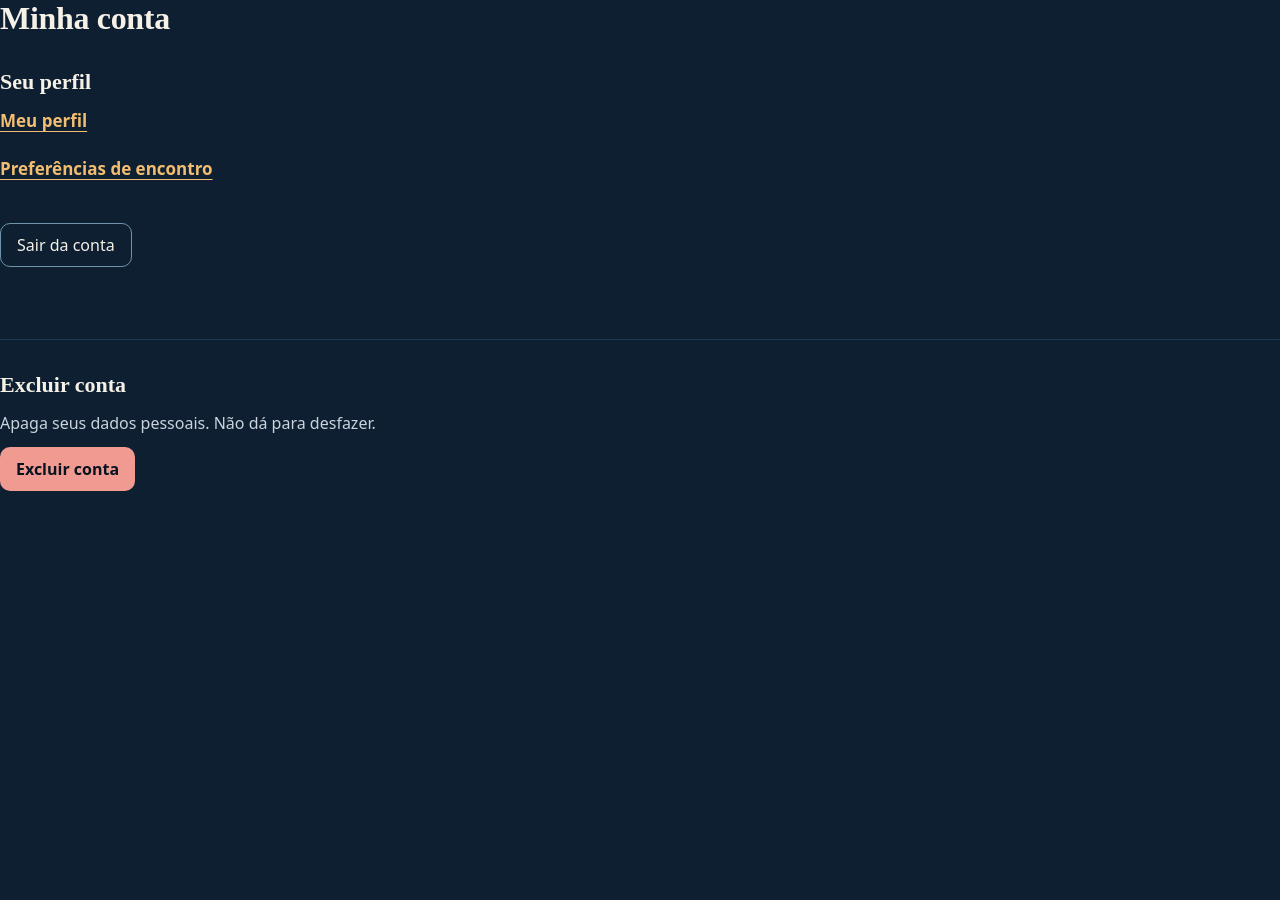
it: MinhaConta › excluirAbreODialogoSemChamarAApi
The image size is (1280, 900).
What coordinates should you click on to do the following:
click the button "Excluir conta"
I would click on:
 (68, 469)
Its box is [0,447,135,491].
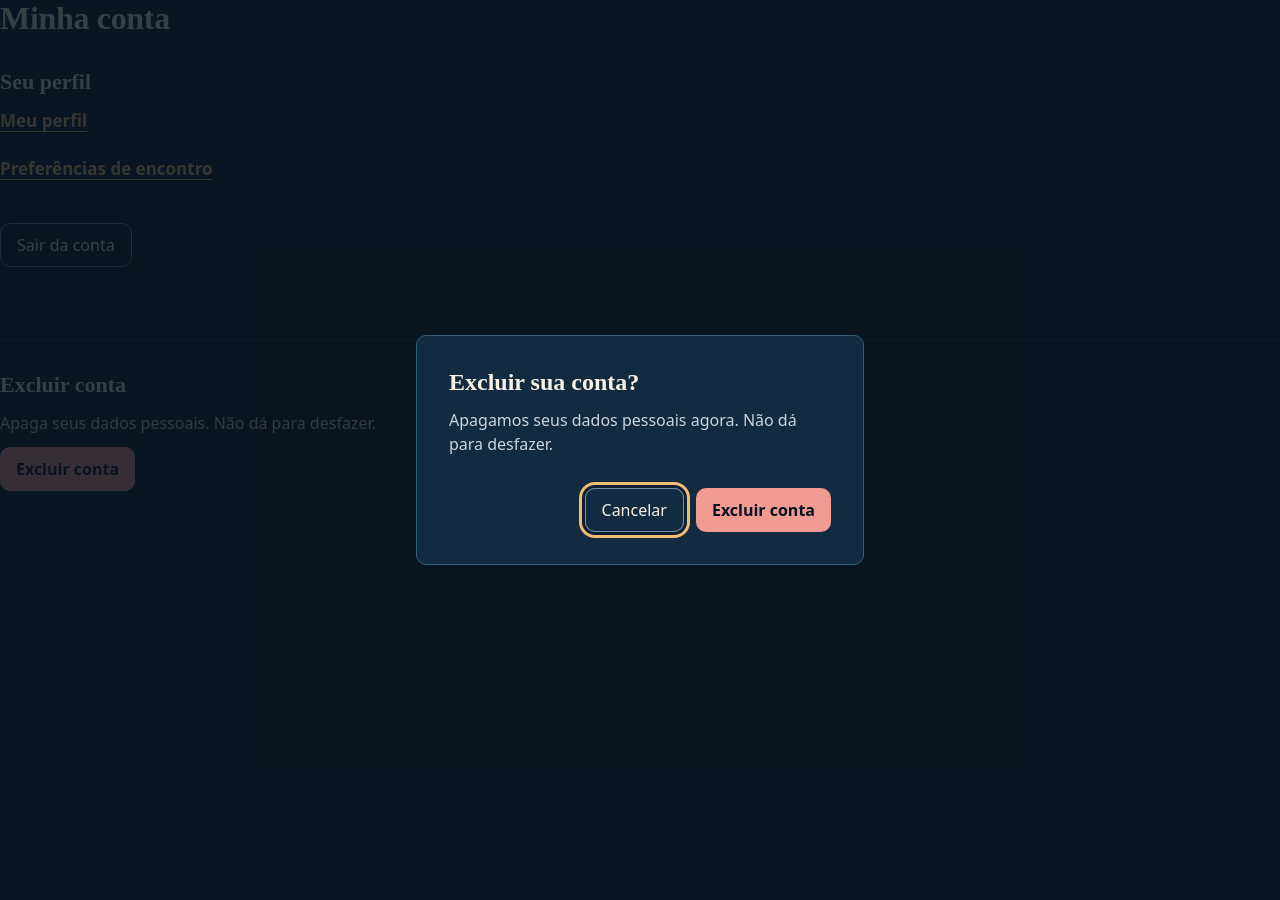
Expected: the button "Excluir conta" is shown, [696,488,831,532]
Expected: the button "Cancelar" is shown, [584,488,684,532]
